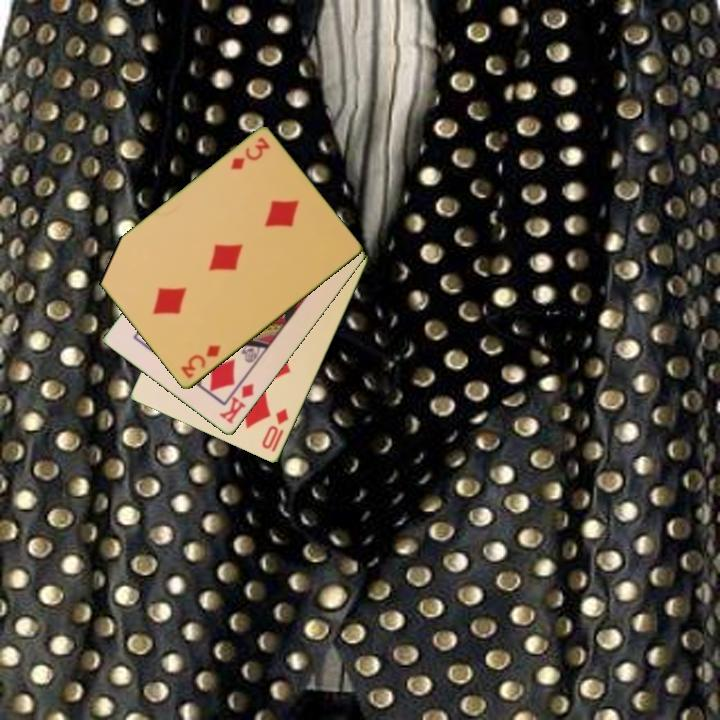10d: (258, 405, 292, 453)
3d: (177, 342, 224, 382), (227, 134, 273, 173)
Kd: (216, 373, 257, 427)
